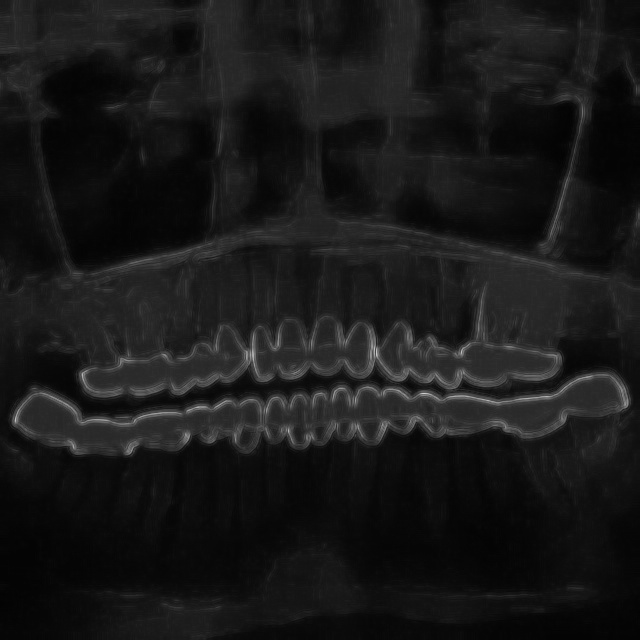Class 1- complete endodontic treatment: (440, 249, 539, 402)
Class 2- incomplete endodontic treatment: (41, 294, 138, 406)
cavity: (324, 375, 632, 556), (7, 373, 312, 550), (214, 219, 432, 392)
